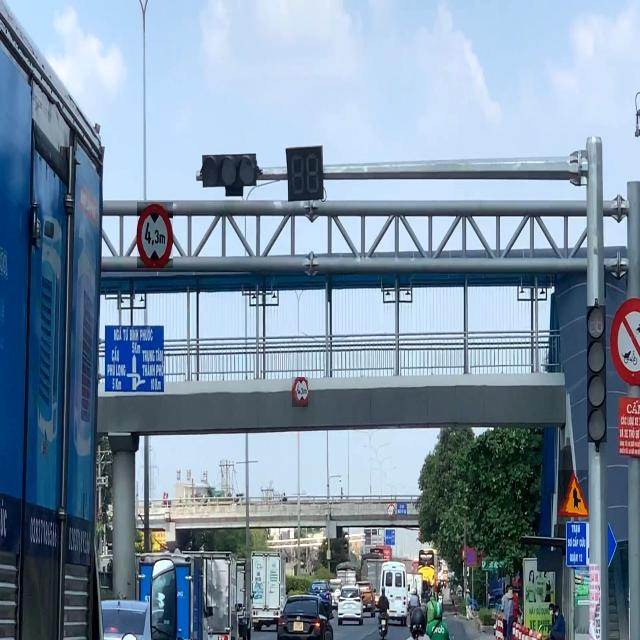bien_cam: (137, 202, 173, 268), (558, 470, 588, 517), (292, 378, 308, 408), (468, 548, 478, 567), (388, 504, 395, 517)
